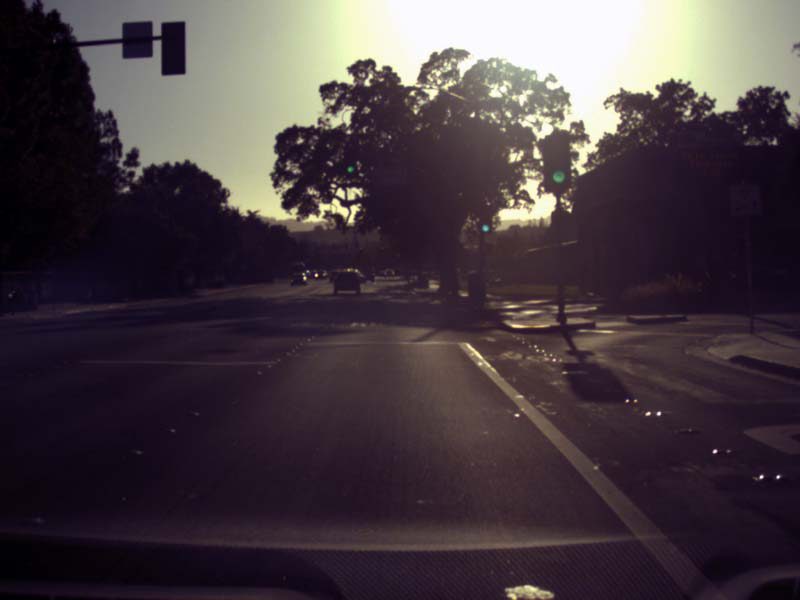Green: (546, 135, 569, 188), (343, 140, 357, 176), (480, 206, 491, 233)
